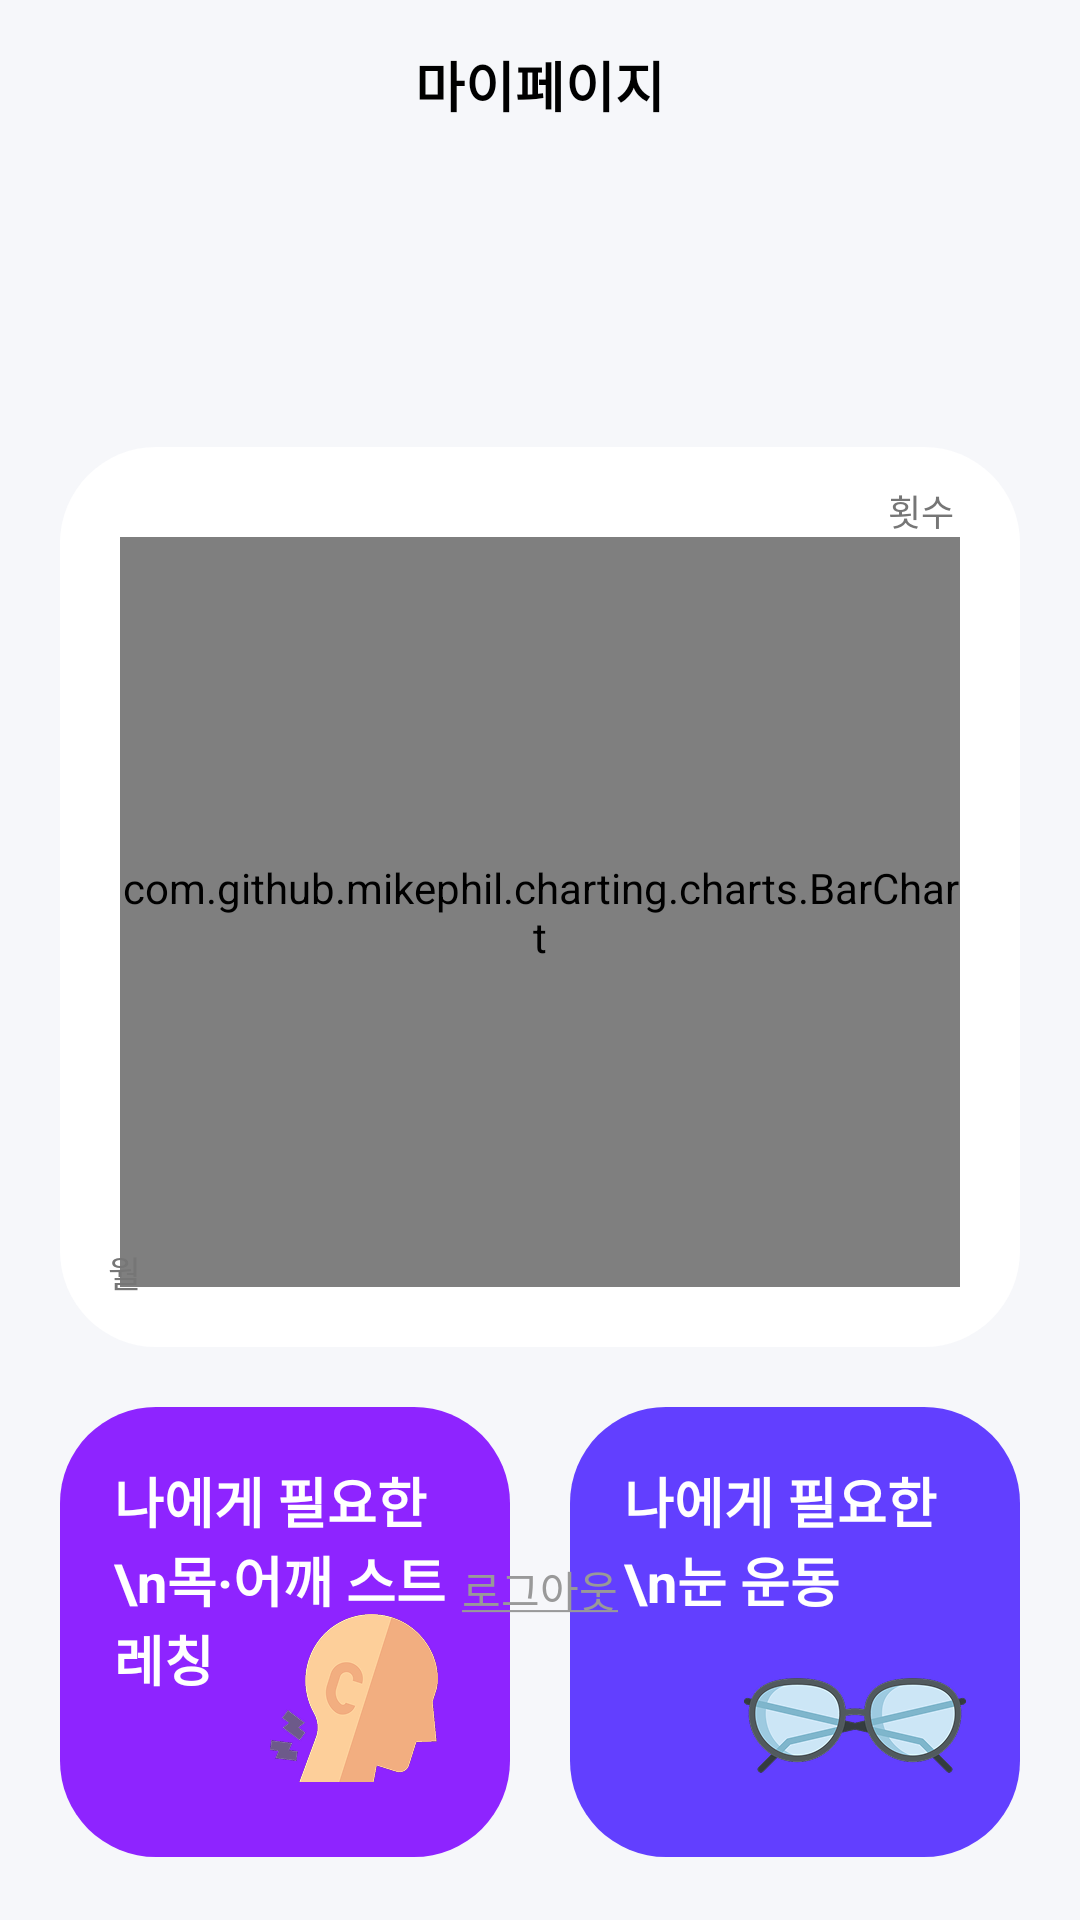

Icon click points for this 1080w x 1920h phone screenshot, format (x,y):
neck: (354,1698)
